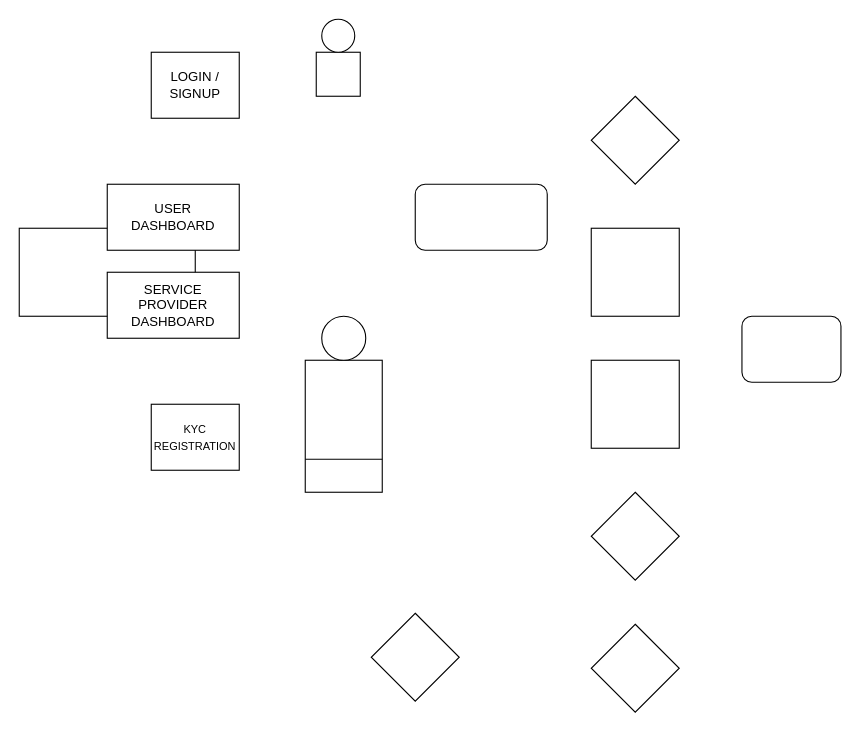
The diagram is 860 pixels wide and 732 high, and some of its shapes have lost their labels. Here are the shapes that lost their labels. From the top down, the centre of each, then its label:
pixel 337 73: USER
pixel 343 425: ADVOCATES ARBITATORS MEDIATATORS DOCUMENT WRITERS JUDGE
